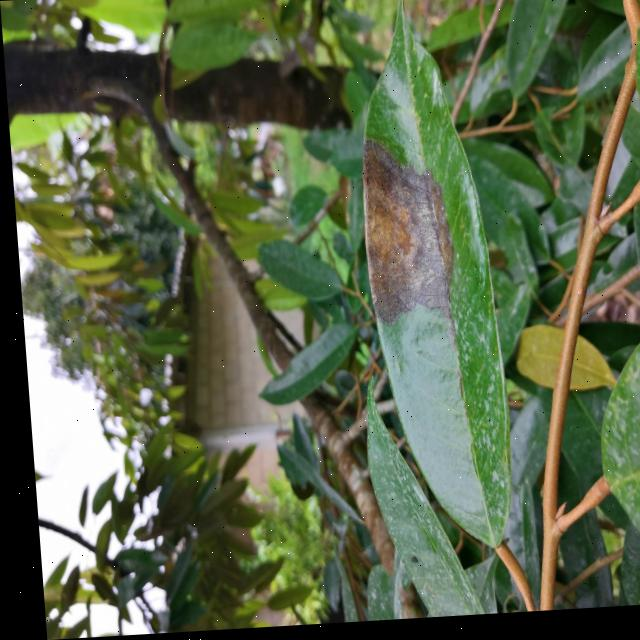Phytophthora: (352, 146, 461, 377)
